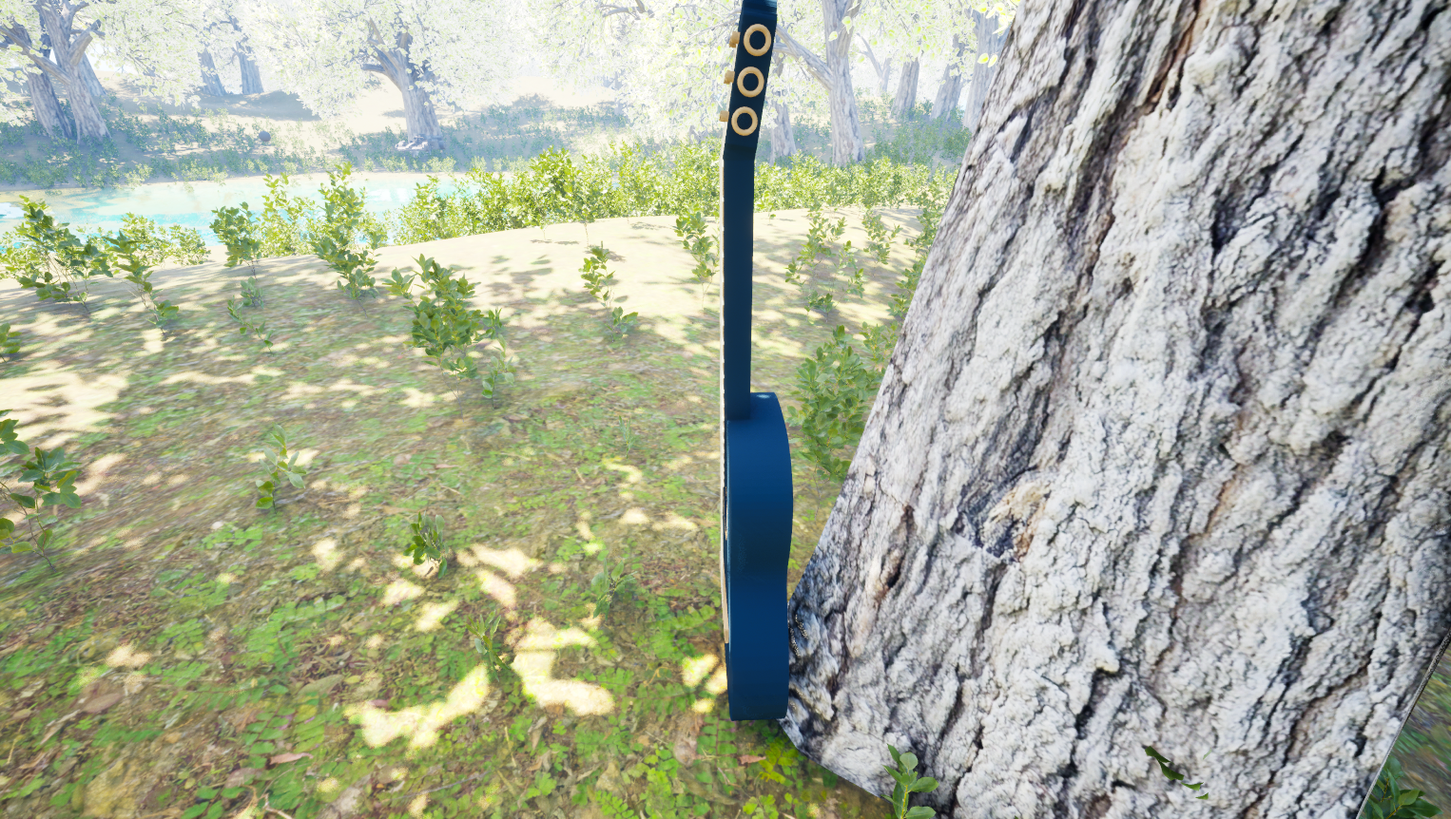Guitar: (713, 0, 835, 764)
